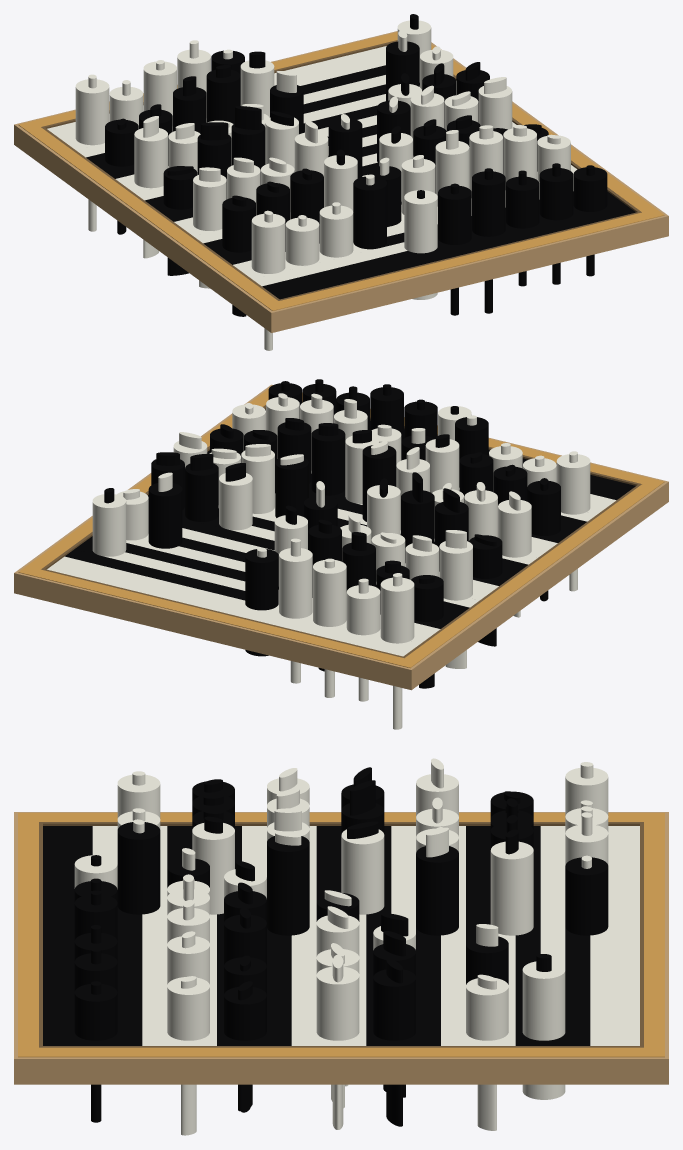
File: Korutawa_v18_2022-03-03_153.glb
3 renders of one model, top to bottom at view 1: azimuth 30°, elevation 25°; view 2: azimuth 150°, elevation 25°; view 3: azimuth 270°, elevation 25°, orthographic. The views are drawn at different scales.
Visible parts, largest first — view 1: Frame_3, Frame_2, Bottom Bound, Frame_1, 1 L4, Top Bound, 0 R6, 0 R4, 19 L1, 1 L1, 0 R5, 13 L1 (+54 smaller); view 2: Frame_3, Frame_2, Top Bound, 19 L4, 19 L1, 19 L3, 15 R2, Frame_1, 6 R4, 18 R1, 19 L5, 1 L1 (+51 smaller); view 3: Frame_3, Frame_2, Top Bound, Bottom Bound, Frame_1, Line_2, 7 L5, 18 R1, 1 L4, 16 L5, Line_8, Line_14 (+63 smaller).
Boxes of the visible parts, left/top/right/bottom form: Frame_3: left=14, top=31, right=668, bottom=332; Frame_2: left=18, top=32, right=664, bottom=310; Bottom Bound: left=262, top=199, right=635, bottom=299; Frame_1: left=41, top=40, right=641, bottom=300; 1 L4: left=353, top=176, right=386, bottom=249; Top Bound: left=47, top=46, right=386, bottom=142; 0 R6: left=404, top=190, right=437, bottom=299; 0 R4: left=472, top=171, right=505, bottom=236; 19 L1: left=75, top=79, right=109, bottom=145; 1 L1: left=251, top=213, right=285, bottom=273; 0 R5: left=438, top=185, right=471, bottom=244; 13 L1: left=134, top=128, right=167, bottom=188; Frame_3: left=14, top=384, right=668, bottom=690; Frame_2: left=18, top=389, right=664, bottom=668; Top Bound: left=47, top=556, right=420, bottom=656; 19 L4: left=279, top=548, right=312, bottom=618; 19 L1: left=380, top=577, right=414, bottom=643; 19 L3: left=313, top=560, right=346, bottom=626; 15 R2: left=148, top=483, right=182, bottom=548; Frame_1: left=41, top=401, right=641, bottom=658; 6 R4: left=311, top=428, right=345, bottom=495; 18 R1: left=92, top=494, right=126, bottom=556; 19 L5: left=245, top=549, right=278, bottom=656; 1 L1: left=556, top=454, right=590, bottom=514; Frame_3: left=14, top=812, right=668, bottom=1084; Frame_2: left=18, top=813, right=664, bottom=1057; Top Bound: left=590, top=826, right=639, bottom=1045; Bottom Bound: left=43, top=826, right=92, bottom=1045; Frame_1: left=39, top=822, right=643, bottom=1047; Line_2: left=142, top=826, right=167, bottom=1045; 7 L5: left=267, top=836, right=309, bottom=935; 18 R1: left=522, top=961, right=565, bottom=1099; 1 L4: left=117, top=822, right=160, bottom=914; 16 L5: left=490, top=841, right=533, bottom=935; Line_8: left=291, top=826, right=316, bottom=1045; Line_14: left=441, top=826, right=465, bottom=1045.
Size of the model in its own units: 11.73 by 4.78 by 13.16.
